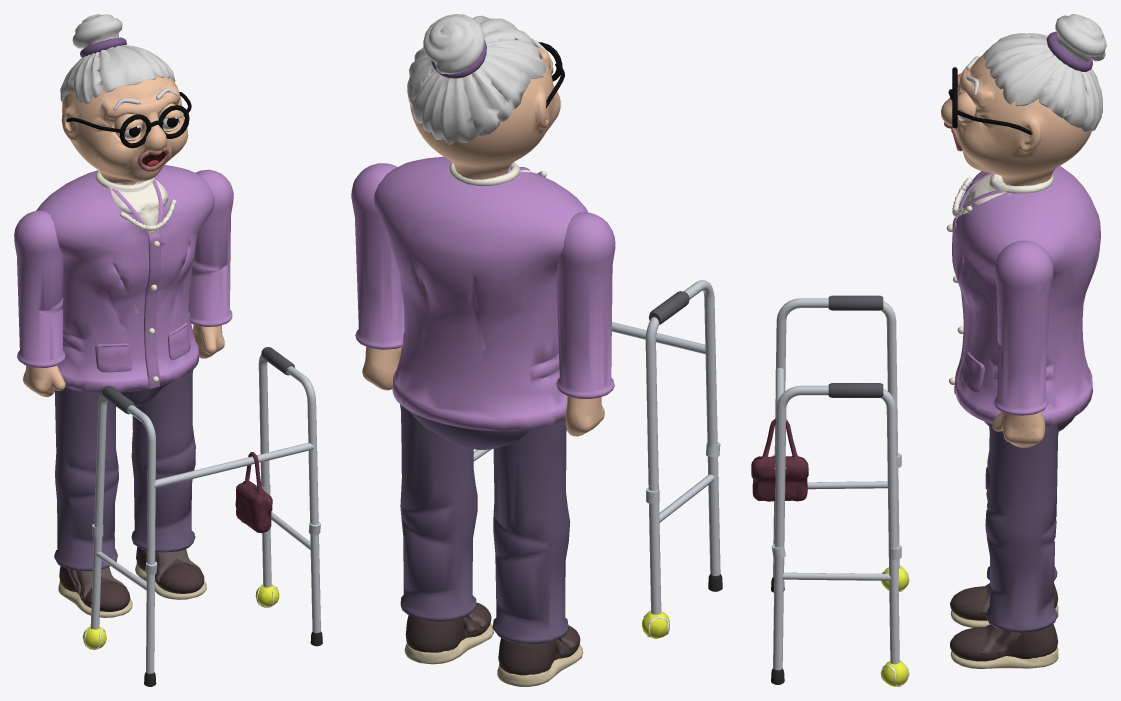
Rendered from granny.glb.
The picture shows the model from 3 angles, left to right: view 1: azimuth 30°, elevation 25°; view 2: azimuth 150°, elevation 25°; view 3: azimuth 270°, elevation 25°; orthographic projection. The views are drawn at different scales.
Visible parts, largest first — view 1: Body_Mesh, Walker, Head_Mesh, LegR_Mesh, LegL_Mesh, ArmR_Mesh, ArmL_Mesh, CardiganTrim, Blouse, Mouth; view 2: Body_Mesh, Head_Mesh, LegR_Mesh, LegL_Mesh, ArmR_Mesh, Walker, ArmL_Mesh, Blouse; view 3: Body_Mesh, Head_Mesh, LegL_Mesh, Walker, ArmL_Mesh, LegR_Mesh, CardiganTrim, Blouse.
Boxes of the visible parts, x1,y1,x2,y2 form: Body_Mesh: [36, 165, 214, 406]; Walker: [82, 347, 322, 686]; Head_Mesh: [60, 14, 191, 184]; LegR_Mesh: [54, 387, 132, 617]; LegL_Mesh: [131, 370, 206, 599]; ArmR_Mesh: [14, 210, 65, 397]; ArmL_Mesh: [189, 169, 233, 358]; CardiganTrim: [95, 234, 190, 389]; Blouse: [95, 170, 168, 234]; Mouth: [137, 147, 169, 171]; Body_Mesh: [374, 156, 588, 449]; Head_Mesh: [407, 14, 564, 179]; LegR_Mesh: [492, 418, 583, 686]; LegL_Mesh: [400, 404, 493, 664]; ArmR_Mesh: [556, 212, 615, 436]; Walker: [473, 280, 722, 638]; ArmL_Mesh: [351, 163, 404, 390]; Blouse: [449, 162, 536, 185]; Body_Mesh: [954, 166, 1100, 431]; Head_Mesh: [941, 14, 1106, 185]; LegL_Mesh: [950, 423, 1058, 668]; Walker: [751, 295, 909, 686]; ArmL_Mesh: [992, 240, 1053, 447]; LegR_Mesh: [950, 438, 1058, 627]; CardiganTrim: [952, 217, 984, 394]; Blouse: [961, 172, 1053, 208].
Size of the model in its own units: 0.7051 by 1.75 by 0.9091.
